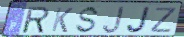J: (125, 6, 153, 34), (101, 6, 126, 35)
K: (50, 6, 75, 34)
R: (22, 6, 51, 34)
S: (74, 5, 101, 35)
Z: (149, 6, 179, 34)
